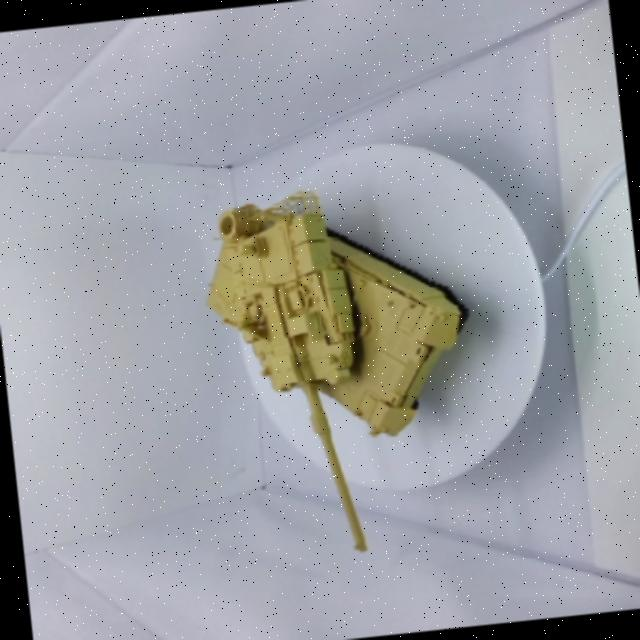korea tank: (164, 157, 515, 579)
